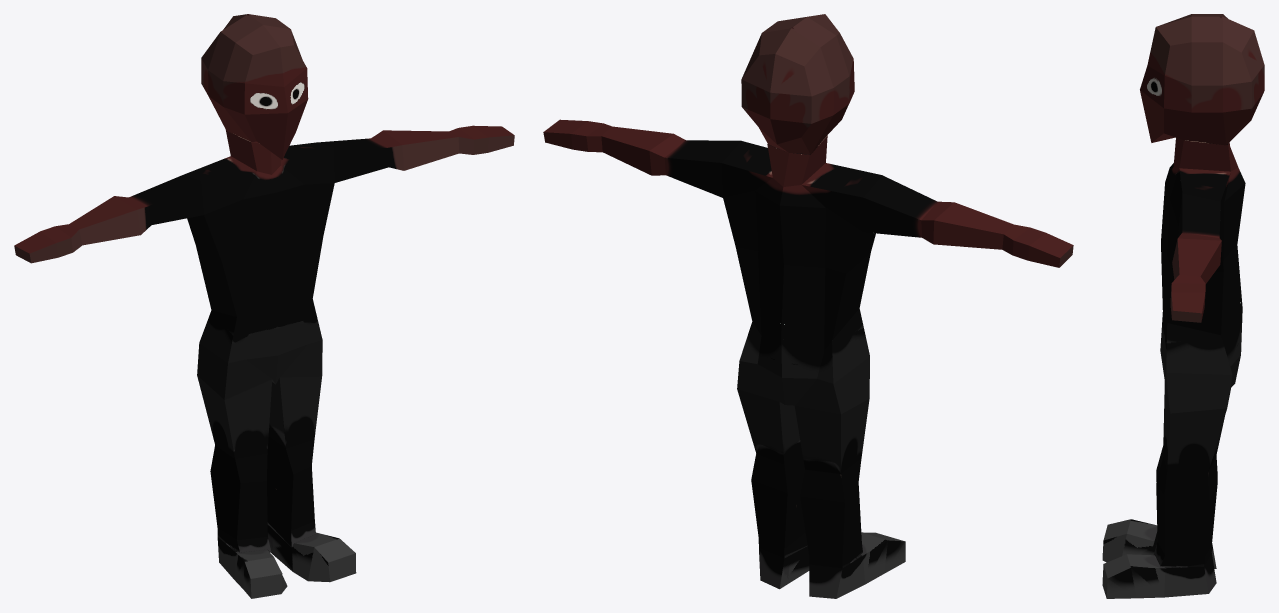
File: yayamodel.fbx
The picture shows the model from 3 angles, left to right: view 1: azimuth 30°, elevation 25°; view 2: azimuth 150°, elevation 25°; view 3: azimuth 270°, elevation 25°; orthographic projection. The views are drawn at different scales.
Visible parts, largest first — view 1: Player; view 2: Player; view 3: Player.
Boxes of the visible parts, x1,y1,x2,y2 form: Player: [14, 14, 514, 598]; Player: [543, 14, 1073, 598]; Player: [1102, 14, 1264, 598].
Bounding box in the file's own units: 1255 × 1315 × 345.
1 material, 1 textured.
